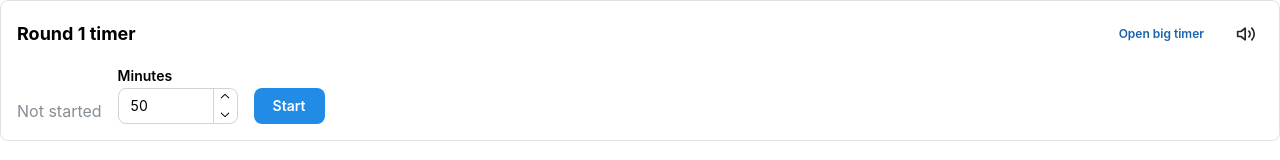
Scenario: RoundTimer › disables Start for an invalid length
This screenshot has width=1280, height=160.
Clear the field labelled "Minutes" at [178, 106], box 118,88 -> 238,124
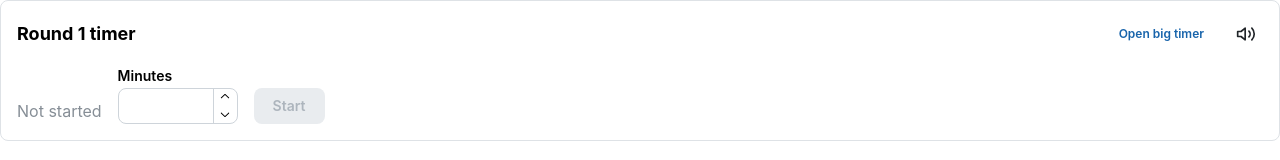
Expected: the button "Start" is disabled, 254,88 -> 324,124
